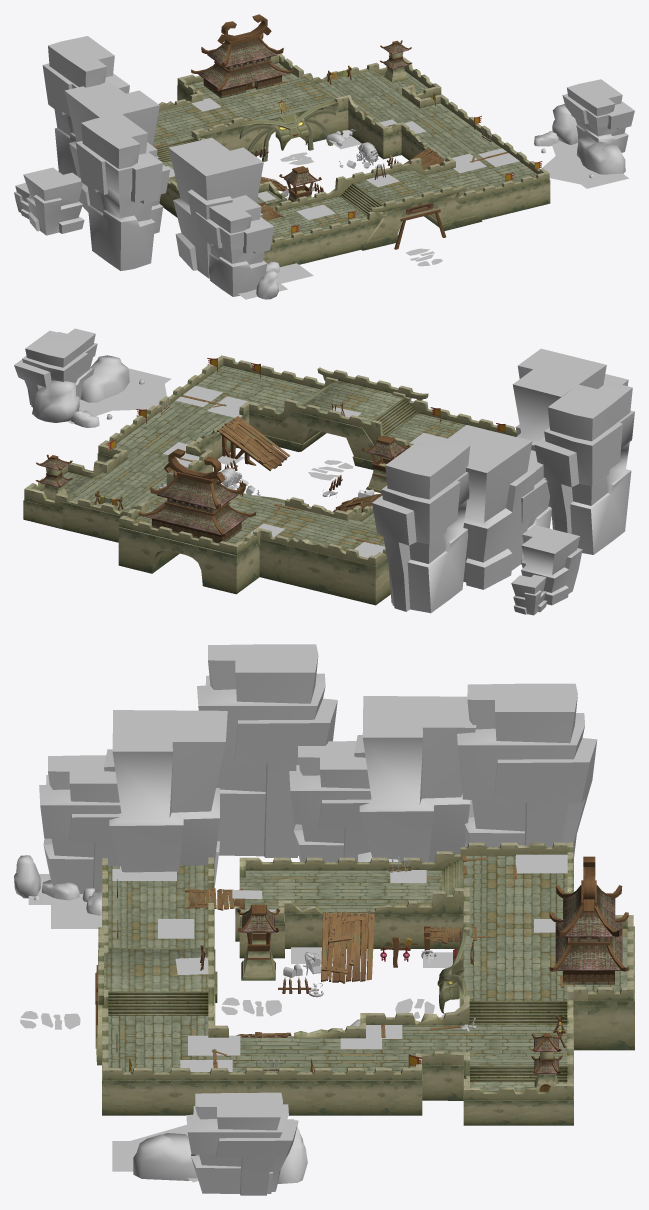
The model's file is chenqiang.fbx.
The picture shows the model from 3 angles, top to bottom: view 1: azimuth 30°, elevation 25°; view 2: azimuth 150°, elevation 25°; view 3: azimuth 270°, elevation 25°; orthographic projection. The views are drawn at different scales.
Parts seen in each view (by area): view 1: chenqiang; view 2: chenqiang; view 3: chenqiang.
Part boxes in pixels (x1=…): chenqiang: x1=14, y1=14, x2=634, y2=299; chenqiang: x1=14, y1=328, x2=634, y2=615; chenqiang: x1=14, y1=644, x2=634, y2=1195.
Bounding box in the file's own units: 72.64 × 17.36 × 49.9.
